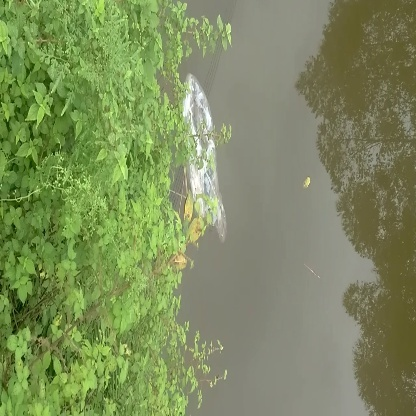plastic-bag: (181, 74, 240, 239)
